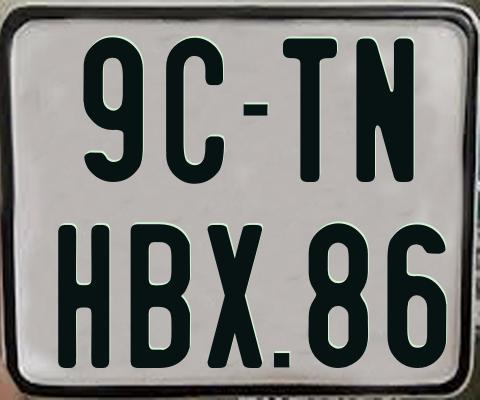6: (387, 223, 447, 373)
8: (305, 221, 369, 370)
9: (80, 37, 146, 183)
B: (129, 222, 192, 368)
C: (166, 35, 227, 187)
H: (55, 224, 109, 370)
N: (356, 36, 418, 186)
T: (282, 37, 338, 182)
X: (206, 225, 263, 373)
